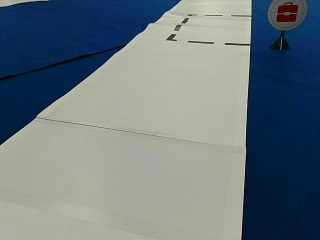company: (267, 0, 307, 29)
